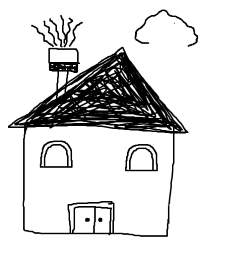clouds: (133, 6, 199, 48)
door: (65, 197, 118, 239)
open_window: (38, 137, 77, 172), (120, 141, 161, 174)
shaded_roof: (8, 46, 189, 131)
smoking_chimney: (25, 13, 92, 96)
wall: (19, 122, 178, 238)
